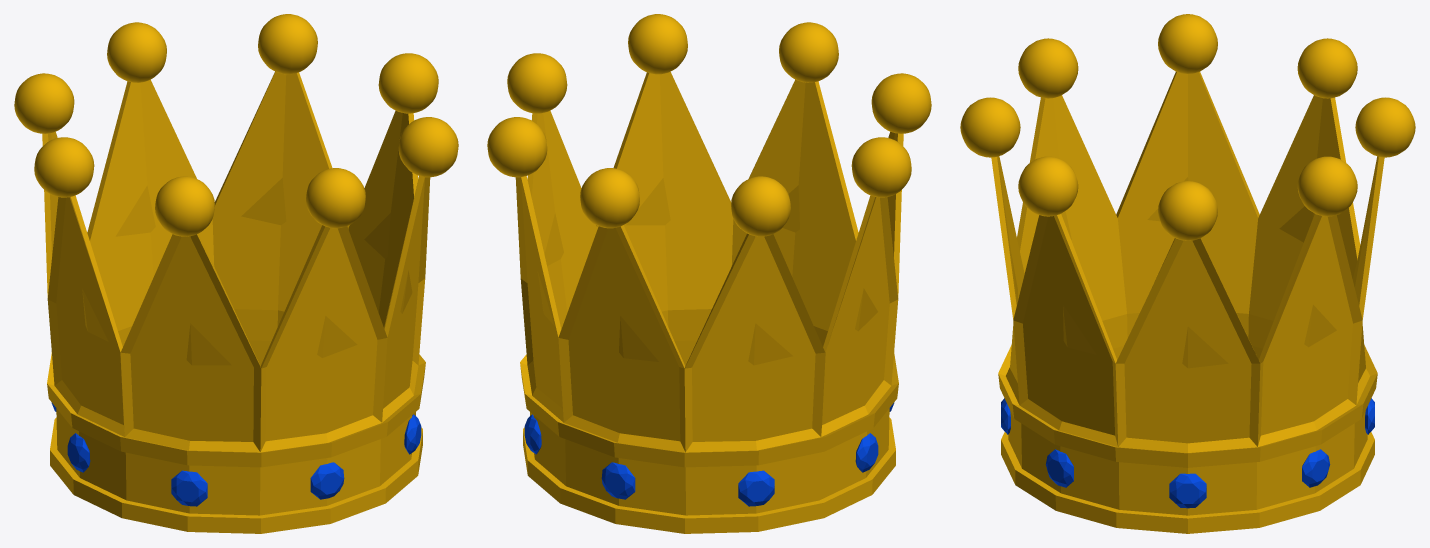
The model's file is crown.glb.
3 renders of one model, left to right at view 1: azimuth 30°, elevation 25°; view 2: azimuth 150°, elevation 25°; view 3: azimuth 270°, elevation 25°, orthographic.
Parts seen in each view (by area): view 1: 円, 球, Gem, Gem.007, Gem.001; view 2: 円, 球, Gem.002, Gem.003, Gem.001; view 3: 円, 球, Gem.005, Gem.004, Gem.006.
Boxes of the visible parts, left/top/right/bottom form: 円: left=42, top=71, right=430, bottom=533; 球: left=14, top=14, right=458, bottom=236; Gem: left=171, top=470, right=207, bottom=506; Gem.007: left=310, top=462, right=344, bottom=499; Gem.001: left=67, top=433, right=90, bottom=472; 円: left=515, top=71, right=903, bottom=533; 球: left=487, top=14, right=931, bottom=236; Gem.002: left=738, top=470, right=774, bottom=506; Gem.003: left=601, top=462, right=635, bottom=499; Gem.001: left=855, top=433, right=878, bottom=472; 円: left=991, top=72, right=1384, bottom=533; 球: left=960, top=14, right=1415, bottom=240; Gem.005: left=1169, top=473, right=1206, bottom=508; Gem.004: left=1302, top=449, right=1330, bottom=487; Gem.006: left=1045, top=449, right=1073, bottom=487.
Bounding box in the file's own units: 2.25 × 1.93 × 2.25.
